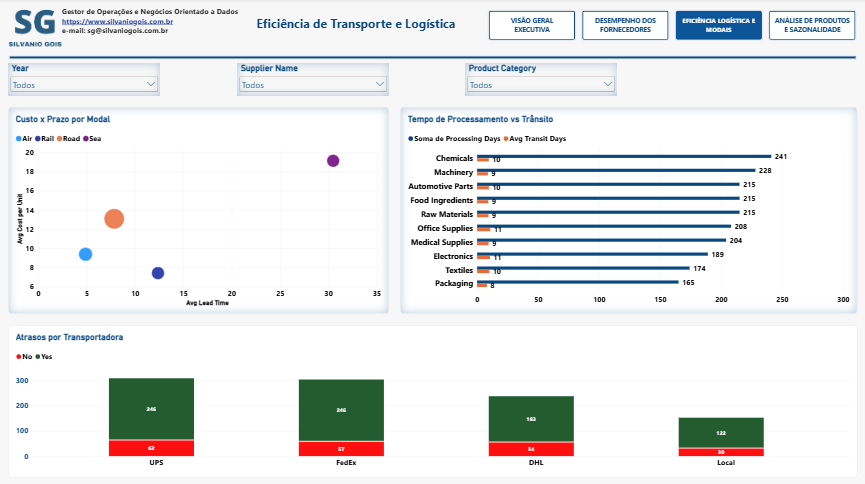

Layout of this report page (visuals, bound fields, positions):
{"tool":"powerbi","page":{"name":"EFICIÊNCIA LOGÍSTICA E MODAIS","canvas":[1920,1080],"ordinal":2},"visuals":[{"type":"image","box":[24,0,120,120],"z":0},{"type":"textbox","box":[144,0,408,120],"z":1000},{"type":"textbox","box":[552,0,480,120],"z":2000},{"type":"shape","box":[24,120,1872,24],"z":3000},{"type":"pageNavigator","box":[1080,24,816,72],"z":4000},{"type":"slicer","fields":{"Values":["Calendar.Year"]},"box":[24,144,336,72],"z":5000},{"type":"slicer","fields":{"Values":["SupplyChain.Product Category"]},"box":[1032,144,336,72],"z":6000},{"type":"slicer","fields":{"Values":["SupplyChain.Supplier Name"]},"box":[528,144,336,72],"z":7000},{"type":"scatterChart","title":"Custo x Prazo por Modal","fields":{"Series":["SupplyChain.Shipping Mode"],"Size":["Medidas.Total Shipments"],"X":["Medidas.Avg Lead Time"],"Y":["Medidas.Avg Cost per Unit"]},"box":[24,240,840,456],"z":7001},{"type":"columnChart","title":"Atrasos por Transportadora","fields":{"Category":["SupplyChain.Shipping Carrier"],"Series":["SupplyChain.On-Time Delivery"],"Y":["Medidas.Total Shipments"]},"box":[24,720,1872,336],"z":7002},{"type":"clusteredBarChart","title":"Tempo de Processamento vs Trânsito\t","fields":{"Category":["SupplyChain.Product Category"],"Y":["Sum(SupplyChain.Processing Days)","Medidas.Avg Transit Days"]},"box":[888,240,1008,456],"z":7003}]}

Visuals, with their boxes in screenshot pixels (x1, y1, x2, y2), scaled from the page's 1920x1080 canvas onto the 865x484 screenshot:
image: x1=11 y1=0 x2=65 y2=54
textbox: x1=65 y1=0 x2=249 y2=54
textbox: x1=249 y1=0 x2=465 y2=54
shape: x1=11 y1=54 x2=854 y2=65
pageNavigator: x1=487 y1=11 x2=854 y2=43
slicer - Calendar.Year: x1=11 y1=65 x2=162 y2=97
slicer - SupplyChain.Product Category: x1=465 y1=65 x2=616 y2=97
slicer - SupplyChain.Supplier Name: x1=238 y1=65 x2=389 y2=97
"Custo x Prazo por Modal" scatterChart: x1=11 y1=108 x2=389 y2=312
"Atrasos por Transportadora" columnChart: x1=11 y1=323 x2=854 y2=473
"Tempo de Processamento vs Trânsito	" clusteredBarChart: x1=400 y1=108 x2=854 y2=312
